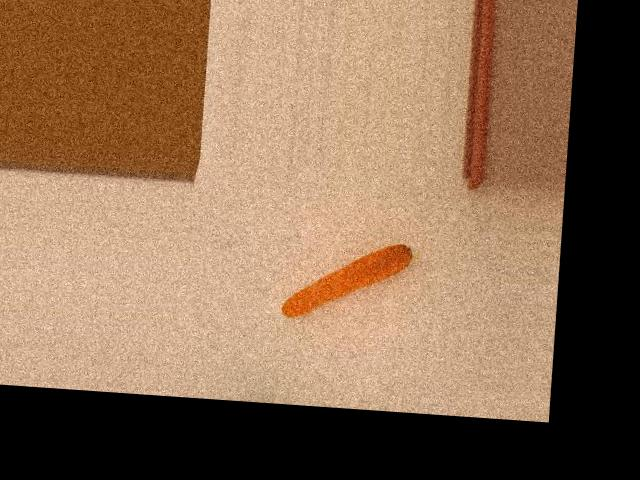carrot: (281, 233, 414, 327)
